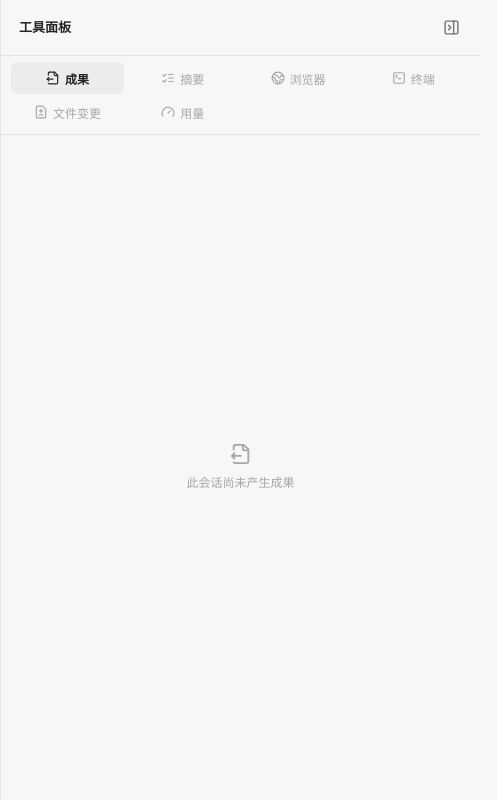
Test case: WorkbenchPanel › does not accept new annotations while the current turn is running
The width and height of the screenshot is (497, 800).
Click the tab "浏览器" at (298, 78), box [242, 62, 355, 94]
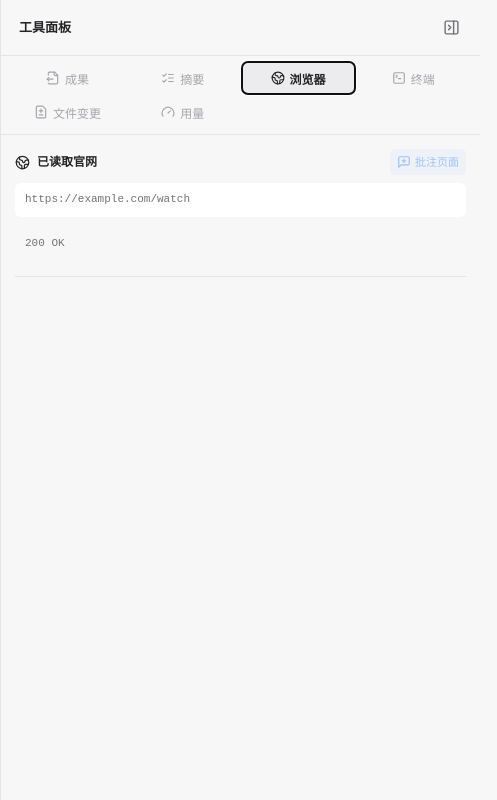
expect the button "批注页面" is disabled: met, box [390, 149, 466, 175]
